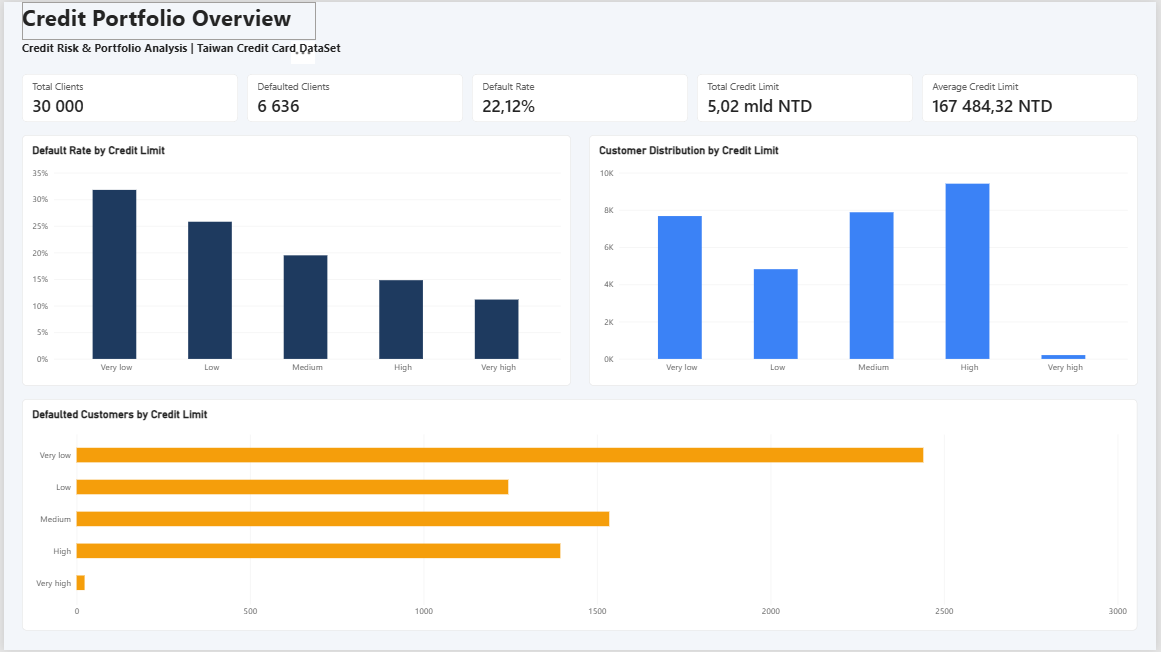

The page's visual inventory and layout, read from the dashboard file:
{"tool":"powerbi","page":{"name":"Credit Portfolio Overview","canvas":[1920,1080],"ordinal":0},"visuals":[{"type":"cardVisual","fields":{"Data":["credit_clients.Total Clients"]},"box":[30,120,360,80],"z":0},{"type":"cardVisual","fields":{"Data":["credit_clients.Defaulted Clients"]},"box":[405,120,360,80],"z":1000},{"type":"cardVisual","fields":{"Data":["credit_clients.Default Rate"]},"box":[780,120,360,80],"z":2000},{"type":"cardVisual","title":"Total Credit Limit","fields":{"Data":["credit_clients.Total Credit Limit bn"]},"box":[1155,120,360,80],"z":3000},{"type":"cardVisual","fields":{"Data":["credit_clients.Average Credit Limit"]},"box":[1530,120,360,80],"z":4000},{"type":"clusteredColumnChart","title":"Default Rate by Credit Limit","fields":{"Category":["credit_clients.credit_limit_group"],"Y":["credit_clients.Default Rate"]},"box":[30.5,221.8,915,418.2],"z":5000},{"type":"clusteredColumnChart","title":"Customer Distribution by Credit Limit","fields":{"Y":["credit_clients.Total Clients"],"Category":["credit_clients.credit_limit_group"]},"box":[975,221.8,915,418.2],"z":6000},{"type":"barChart","title":"Defaulted Customers by Credit Limit","fields":{"Category":["credit_clients.credit_limit_group"],"Y":["credit_clients.Defaulted Clients"]},"box":[30.5,662,1859,386],"z":7000},{"type":"textbox","box":[30,0,490.5,63.6],"z":8000},{"type":"textbox","box":[30,63.6,576.4,29.8],"z":9000}]}

Visuals, with their boxes in screenshot pixels (x1, y1, x2, y2), scaled from the page's 1920x1080 canvas onto the 1161x652 screenshot:
cardVisual - credit_clients.Total Clients: [18,72,236,121]
cardVisual - credit_clients.Defaulted Clients: [245,72,463,121]
cardVisual - credit_clients.Default Rate: [472,72,689,121]
"Total Credit Limit" cardVisual: [698,72,916,121]
cardVisual - credit_clients.Average Credit Limit: [925,72,1143,121]
"Default Rate by Credit Limit" clusteredColumnChart: [18,134,572,386]
"Customer Distribution by Credit Limit" clusteredColumnChart: [590,134,1143,386]
"Defaulted Customers by Credit Limit" barChart: [18,400,1143,633]
textbox: [18,0,315,38]
textbox: [18,38,367,56]
